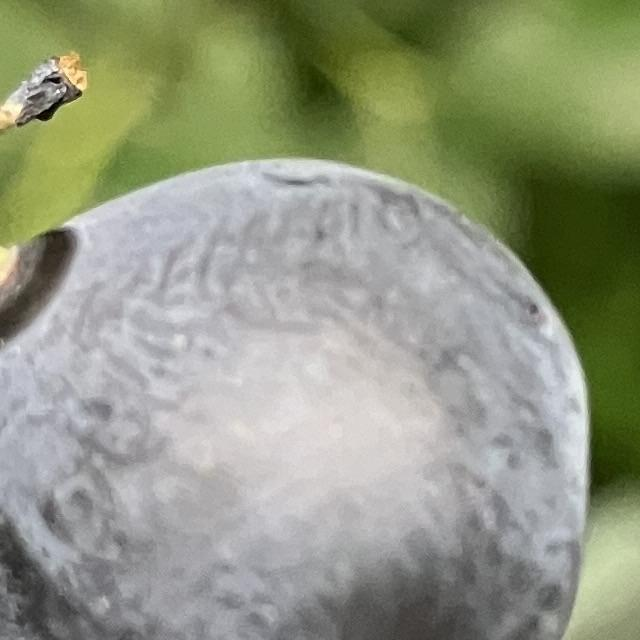Blueberries: (0, 148, 593, 640)
